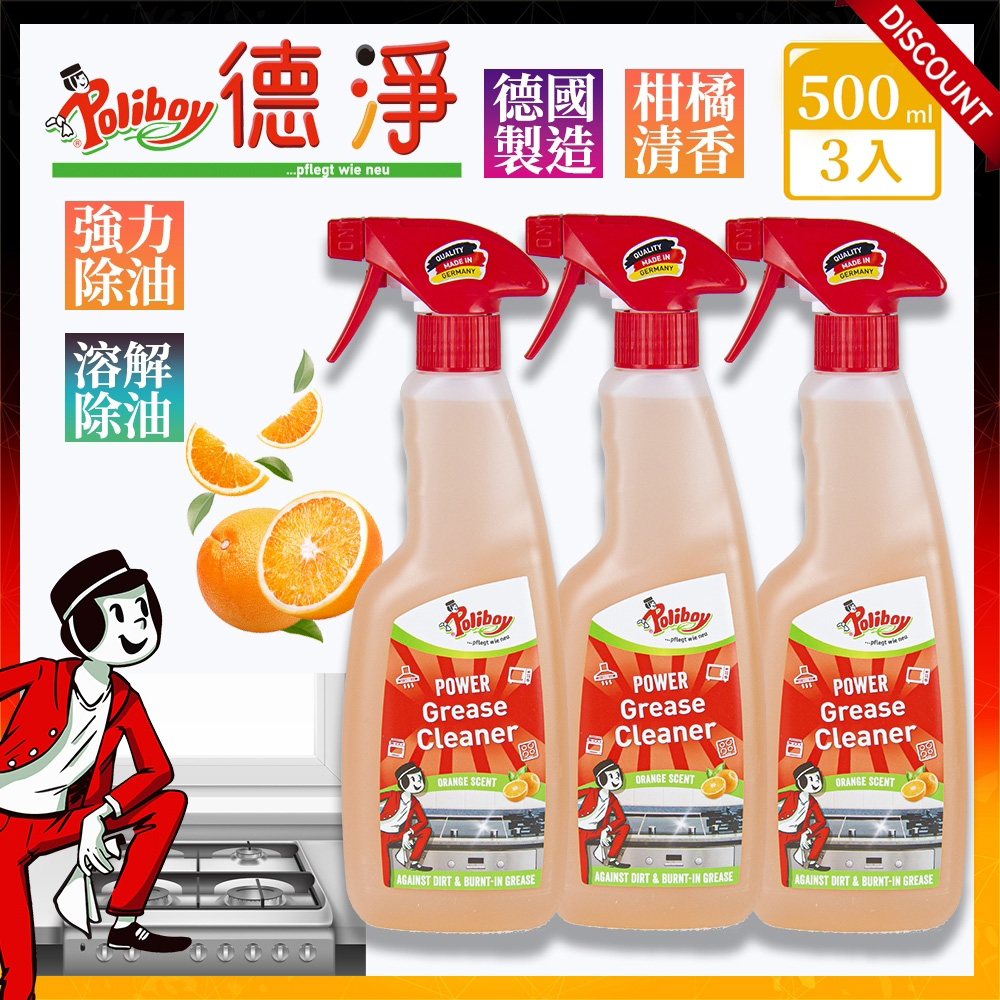cleaner: (717, 213, 973, 937), (318, 214, 565, 939), (522, 209, 763, 933)
